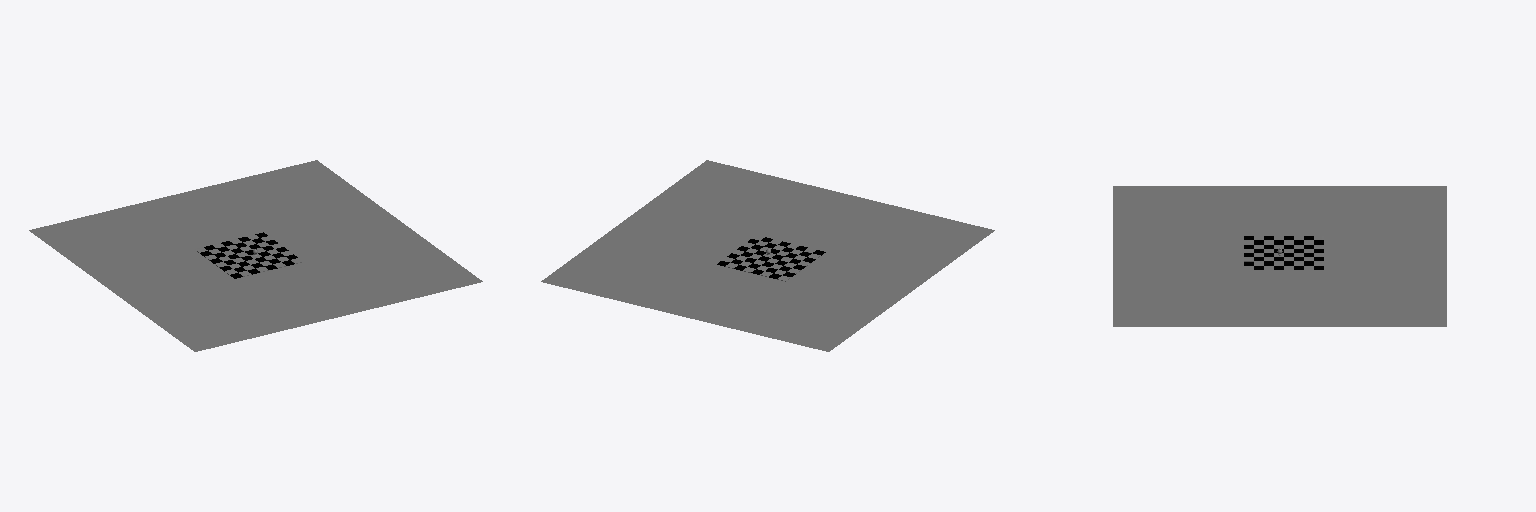
The model's file is chesspiece.obj.
3 renders of one model, left to right at view 1: azimuth 30°, elevation 25°; view 2: azimuth 150°, elevation 25°; view 3: azimuth 270°, elevation 25°, orthographic.
Visible parts, largest first — view 1: Plane.002_Plane.003, blackboard_Plane.009, whiteboard_Plane.011; view 2: Plane.002_Plane.003, blackboard_Plane.009, whiteboard_Plane.011; view 3: Plane.002_Plane.003, whiteboard_Plane.011, blackboard_Plane.009.
Part boxes in pixels (bbox=[...]): Plane.002_Plane.003: bbox=[29, 160, 482, 351]; blackboard_Plane.009: bbox=[200, 232, 297, 278]; whiteboard_Plane.011: bbox=[195, 235, 303, 276]; Plane.002_Plane.003: bbox=[541, 160, 994, 351]; blackboard_Plane.009: bbox=[717, 237, 825, 278]; whiteboard_Plane.011: bbox=[722, 235, 820, 281]; Plane.002_Plane.003: bbox=[1113, 186, 1446, 326]; whiteboard_Plane.011: bbox=[1244, 236, 1323, 269]; blackboard_Plane.009: bbox=[1244, 236, 1323, 269].
Size of the model in its own units: 20 by 0.9922 by 20.